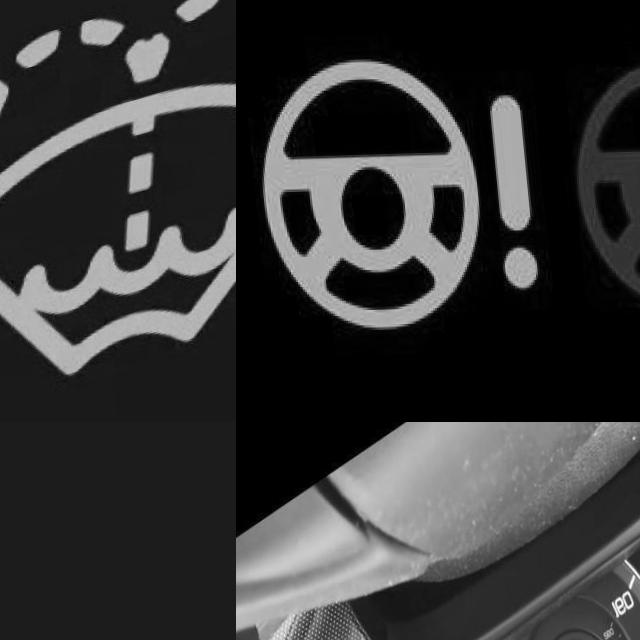Electronic Power Steering: (252, 55, 533, 330), (562, 60, 640, 313)
Washer Fluid: (0, 0, 236, 381)
